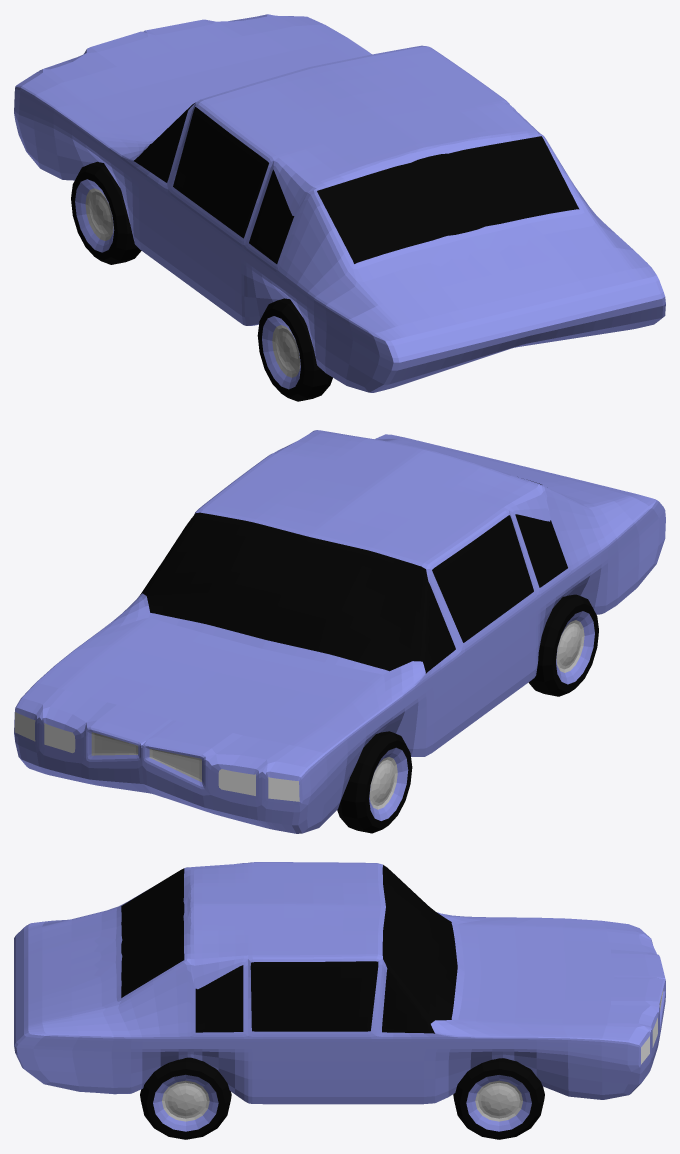
Rendered from BlueCar.glb.
3 views of the same model, one above another, from view 1: azimuth 30°, elevation 25°; view 2: azimuth 150°, elevation 25°; view 3: azimuth 270°, elevation 25° (orthographic). The views are drawn at different scales.
Visible parts, largest first — view 1: Car hi res; view 2: Car hi res; view 3: Car hi res.
Part boxes in pixels (bbox=[...]): Car hi res: bbox=[14, 14, 665, 401]; Car hi res: bbox=[14, 430, 665, 833]; Car hi res: bbox=[14, 862, 665, 1139].
Bounding box in the file's own units: 4.92 × 3.41 × 11.25.
